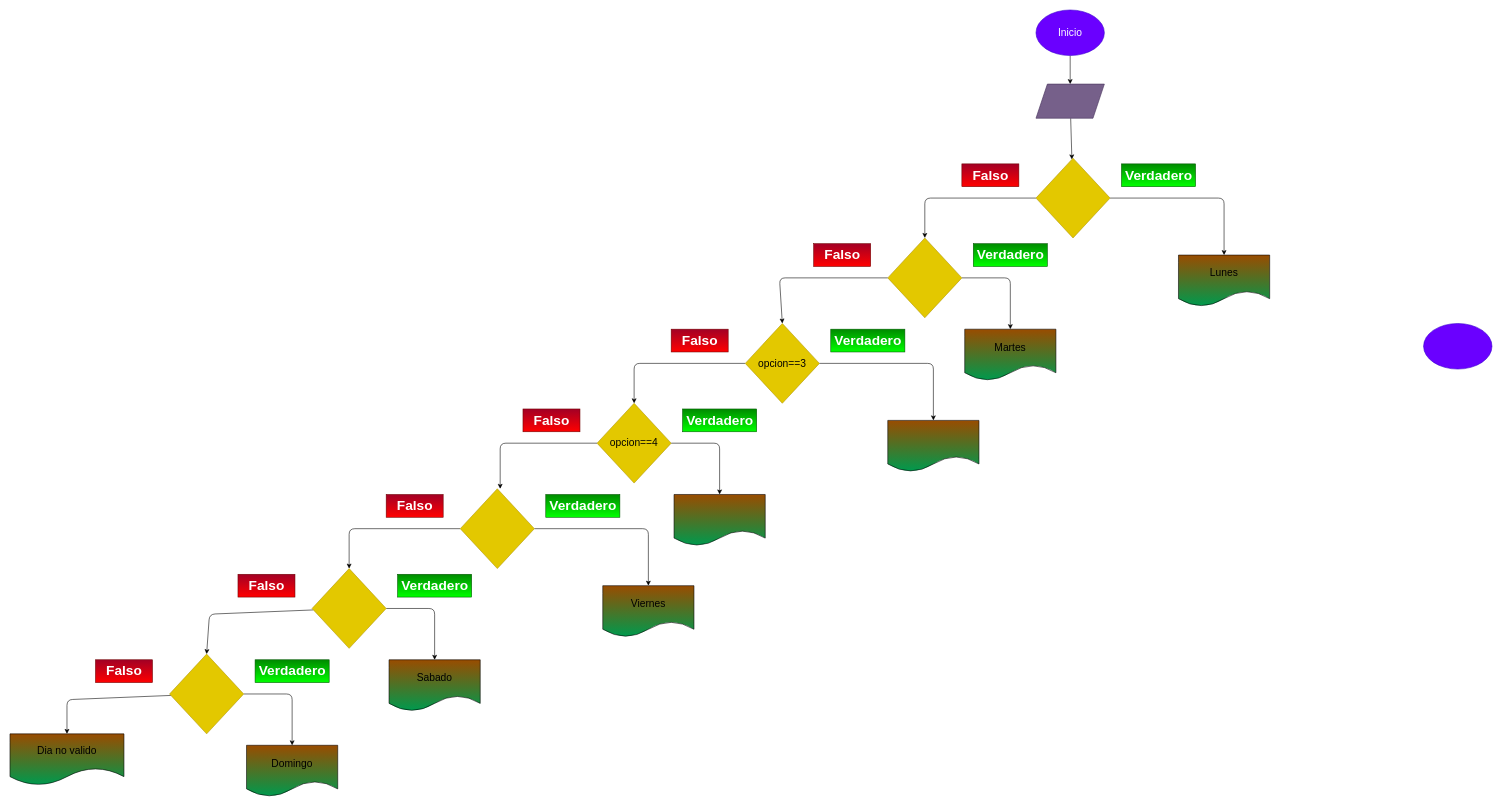
Some shapes in this 1502 by 807 pixel diagram are drawn without their labels. The box of each missing label's shape, as (x1, y1, x2, y2) in pixels:
Fin: (1423, 323, 1492, 369)
Jueves: (673, 494, 765, 546)
Miercoles: (887, 420, 979, 472)
opcion: (1035, 84, 1104, 118)
opcion==1: (1035, 158, 1110, 238)
opcion==2: (887, 237, 962, 318)
opcion==5: (460, 488, 534, 569)
opcion==6: (312, 568, 386, 648)
opcion==7: (169, 654, 244, 734)
